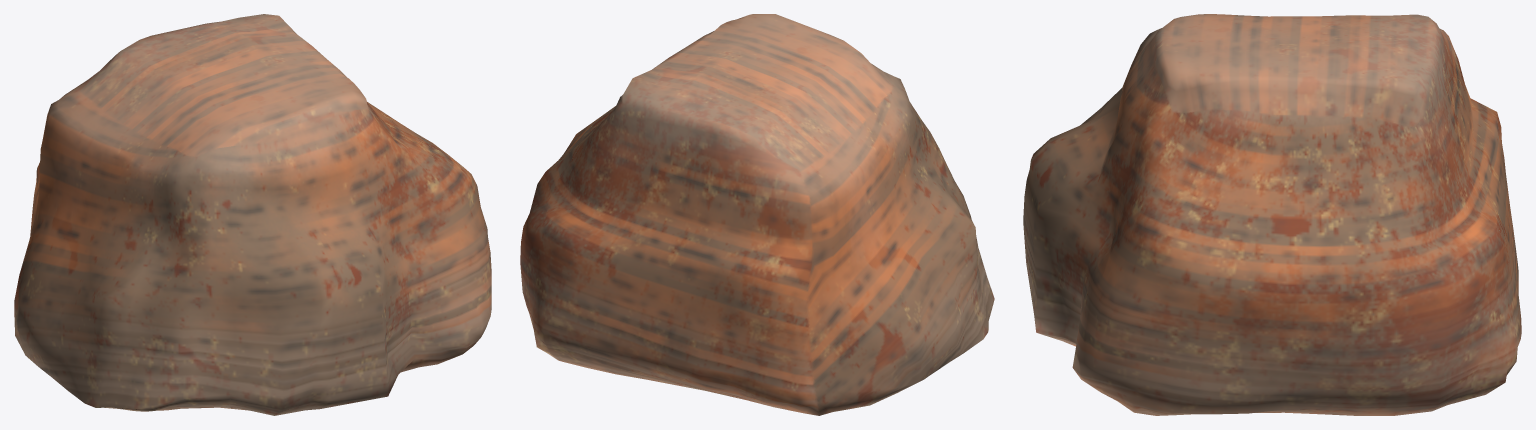
File: Rock.fbx
The picture shows the model from 3 angles, left to right: view 1: azimuth 30°, elevation 25°; view 2: azimuth 150°, elevation 25°; view 3: azimuth 270°, elevation 25°; orthographic projection. The views are drawn at different scales.
Visible parts, largest first — view 1: Rock; view 2: Rock; view 3: Rock.
Part boxes in pixels (<box>): Rock: <box>14,14,491,415</box>; Rock: <box>520,14,994,415</box>; Rock: <box>1023,14,1521,415</box>.
Size of the model in its own units: 3789 by 2542 by 3703.
